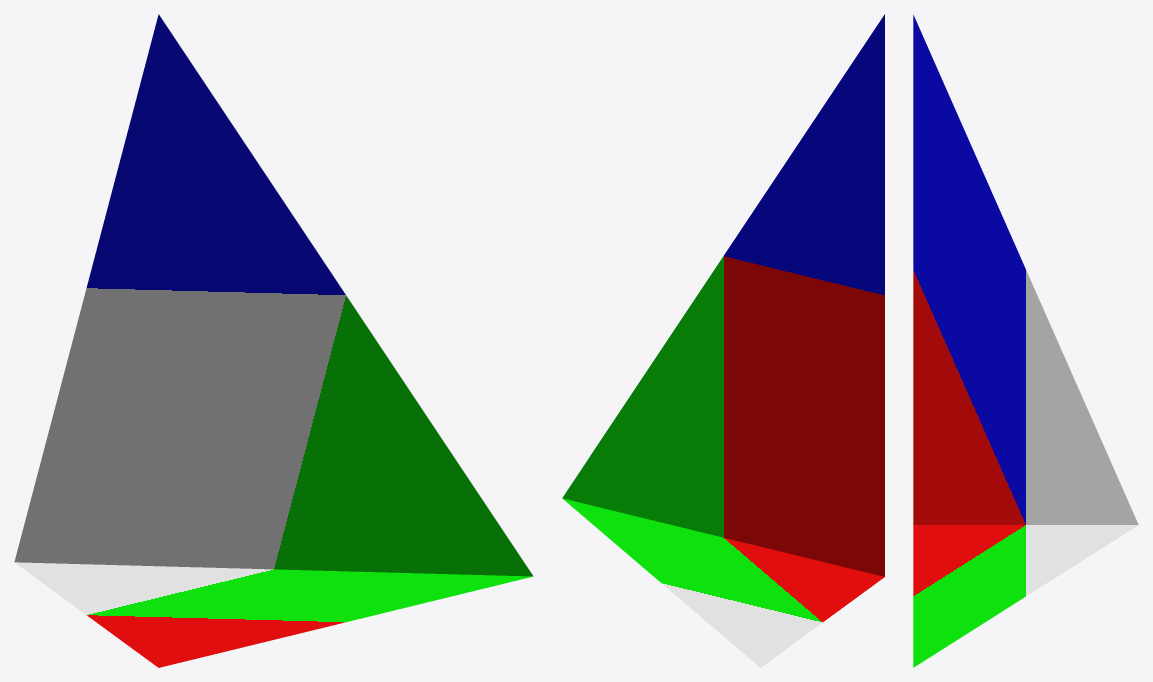
Rendered from jpeg-textured.glb.
3 renders of one model, left to right at view 1: azimuth 30°, elevation 25°; view 2: azimuth 150°, elevation 25°; view 3: azimuth 270°, elevation 25°, orthographic. The views are drawn at different scales.
Bounding box in the file's own units: 0.06 × 0.1 × 0.04.
1 material, 1 textured.
